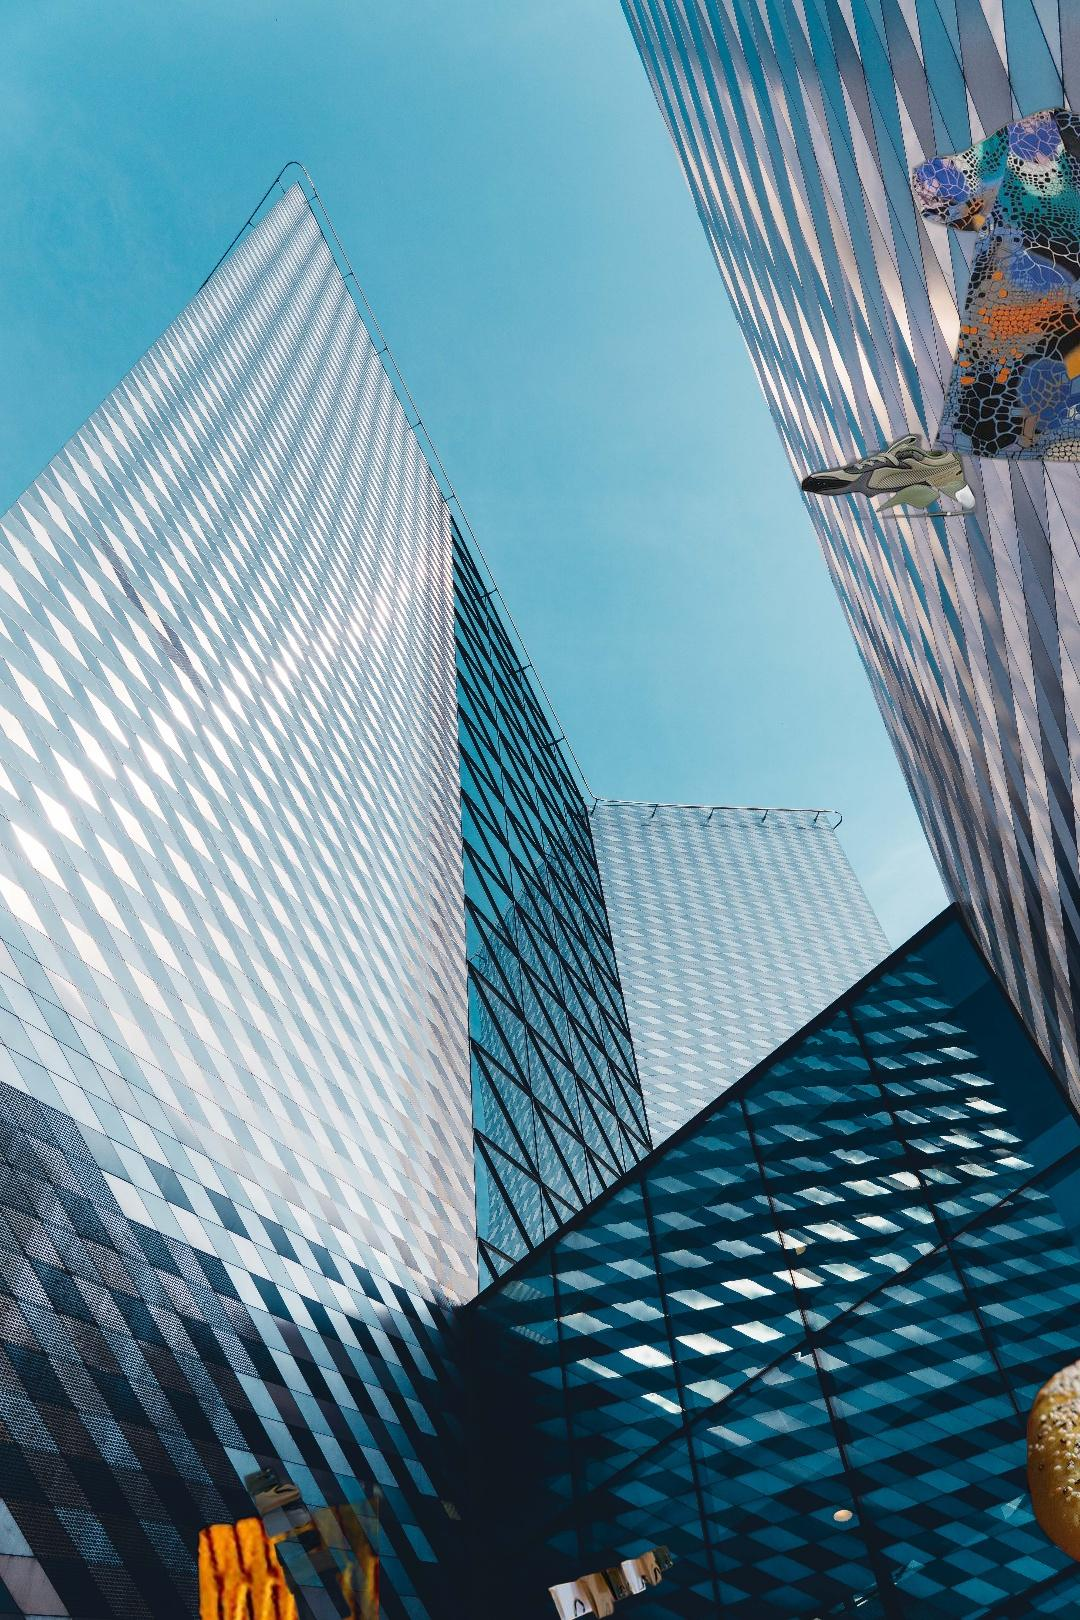biological: (1027, 1274, 1080, 1620)
clothes: (912, 96, 1080, 468)
paper-bag: (151, 1442, 378, 1620), (546, 1542, 676, 1620)
shoes: (798, 432, 980, 522)
